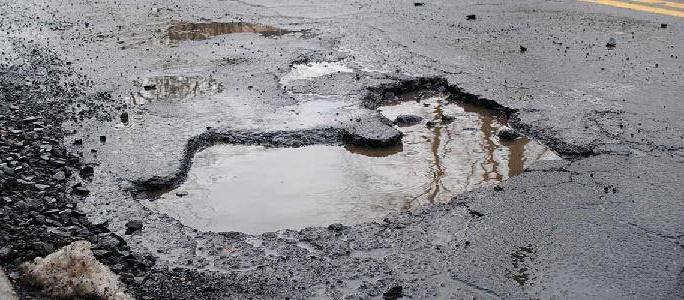pothole: (129, 71, 596, 236), (168, 16, 300, 43), (276, 54, 354, 87)
